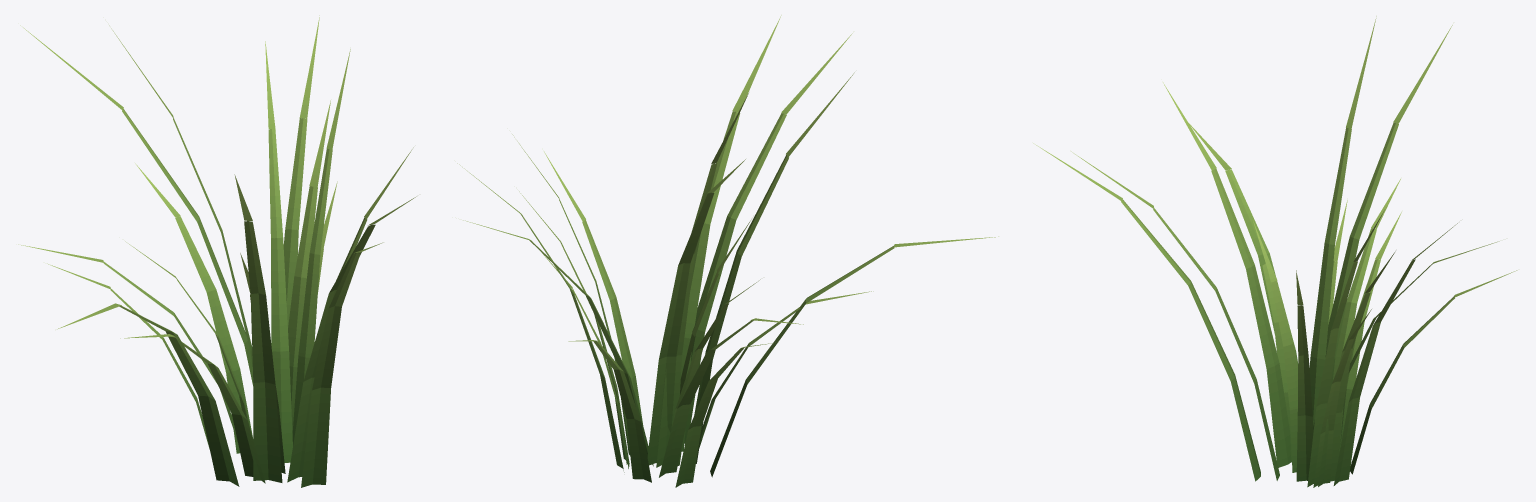
Rendered from grass_tuft.glb.
3 renders of one model, left to right at view 1: azimuth 30°, elevation 25°; view 2: azimuth 150°, elevation 25°; view 3: azimuth 270°, elevation 25°, orthographic. The views are drawn at different scales.
Visible parts, largest first — view 1: grass_tuft; view 2: grass_tuft; view 3: grass_tuft.
Part boxes in pixels (left/top/right/bottom): grass_tuft: left=18, top=15, right=416, bottom=487; grass_tuft: left=457, top=15, right=998, bottom=487; grass_tuft: left=1033, top=16, right=1517, bottom=487.
Bounding box in the file's own units: 0.4372 × 0.4488 × 0.4981.
Materials: 1 (1 with a texture image).
